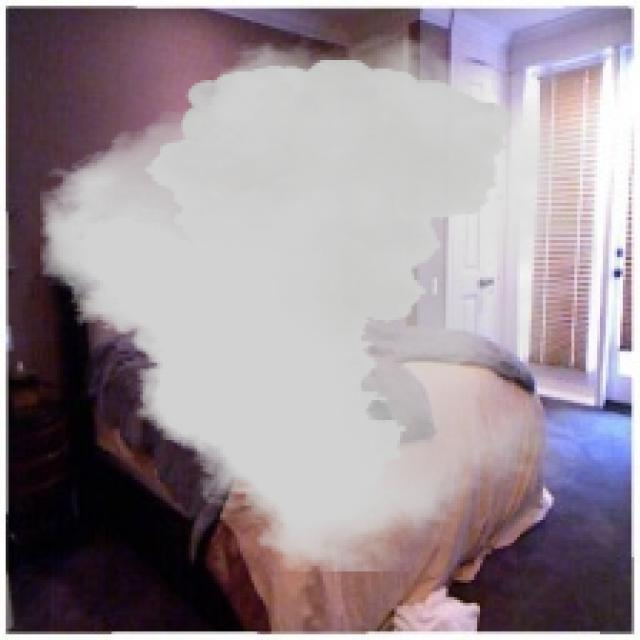Smoke: (40, 34, 597, 572)
